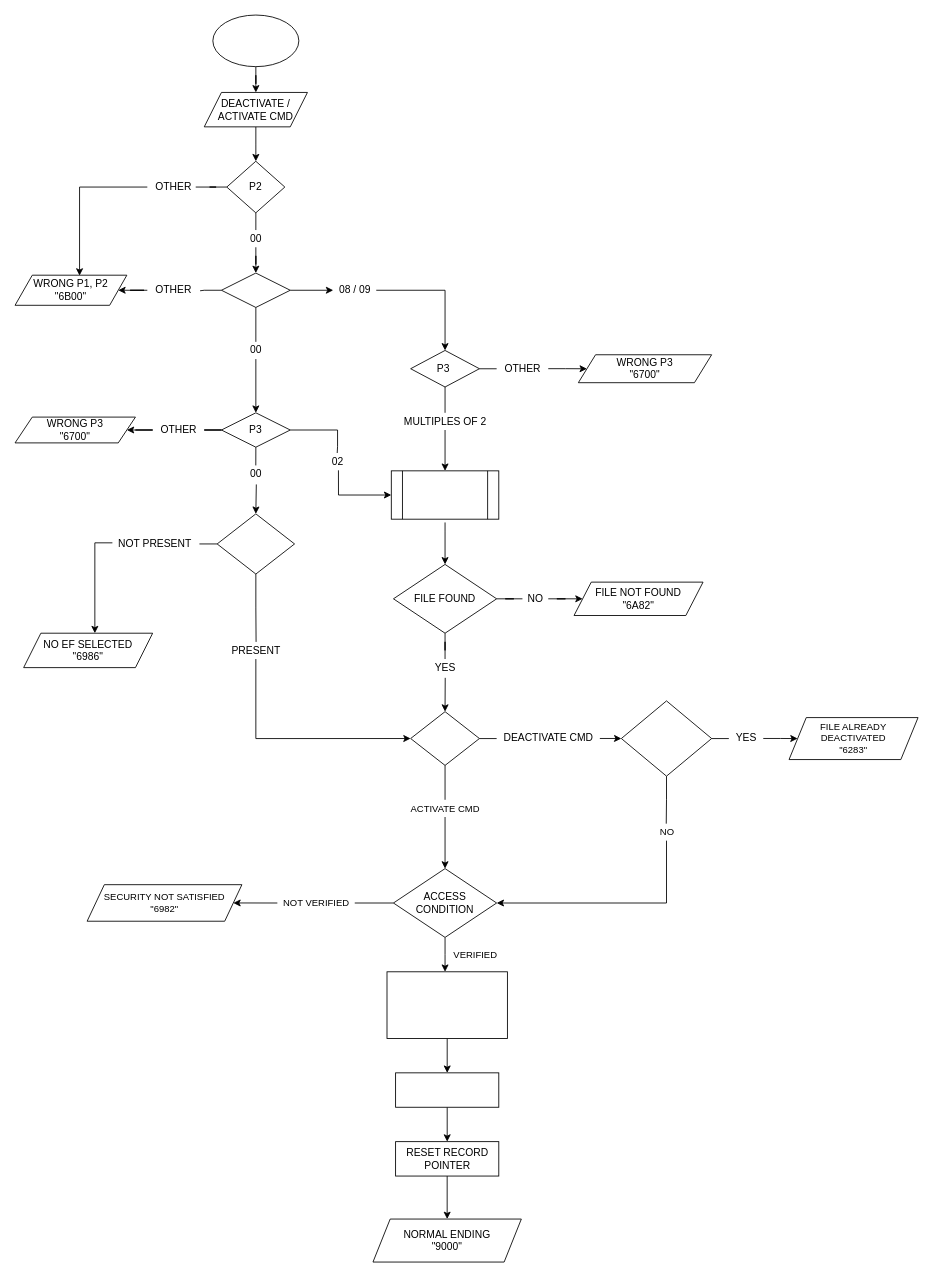
Some shapes in this 933 by 1277 pixel diagram are drawn without their labels. Here are the shapes that lost their labels. From the top down, the centre of each, then its label:
the point at 255,40: START
the point at 255,289: P1
the point at 444,494: SEARCH FILE AS PER GIVEN PATH
the point at 255,543: CURRENT EF
the point at 444,738: INS
the point at 666,738: DEACTIVATED
the point at 446,1004: SET LIFE CYCLE STATUS AS PER INCOMING CMD i.e. DEACTIVATE / ACTIVATE
the point at 447,1089: SET FILE AS CURRENT EF
